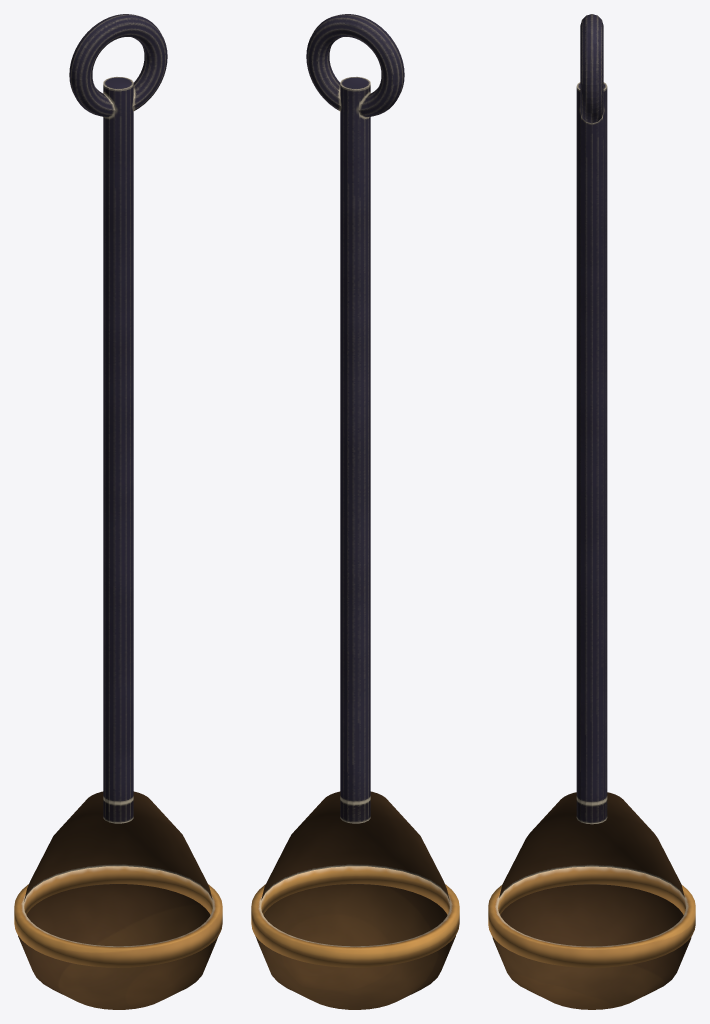
File: FT_Clapper.glb
The picture shows the model from 3 angles, left to right: view 1: azimuth 30°, elevation 25°; view 2: azimuth 150°, elevation 25°; view 3: azimuth 270°, elevation 25°; orthographic projection.
Parts seen in each view (by area): view 1: FT_Clapper; view 2: FT_Clapper; view 3: FT_Clapper.
Part boxes in pixels (left/top/right/bottom): FT_Clapper: left=14, top=14, right=222, bottom=1009; FT_Clapper: left=251, top=14, right=459, bottom=1009; FT_Clapper: left=488, top=14, right=695, bottom=1009.
Bounding box in the file's own units: 2.16 × 11.19 × 2.16.
Materials: 3 (3 with a texture image).
